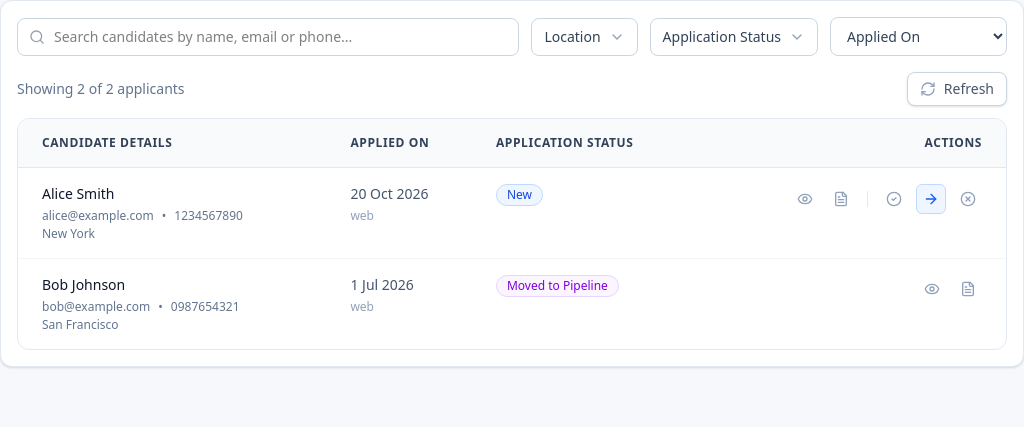
Test: JobApplicantsTab Filtering › filters by multi-select location
The image size is (1024, 427).
// Open Location dropdown
Click the button "Location".
click(584, 36)  # box 531,18 -> 638,56
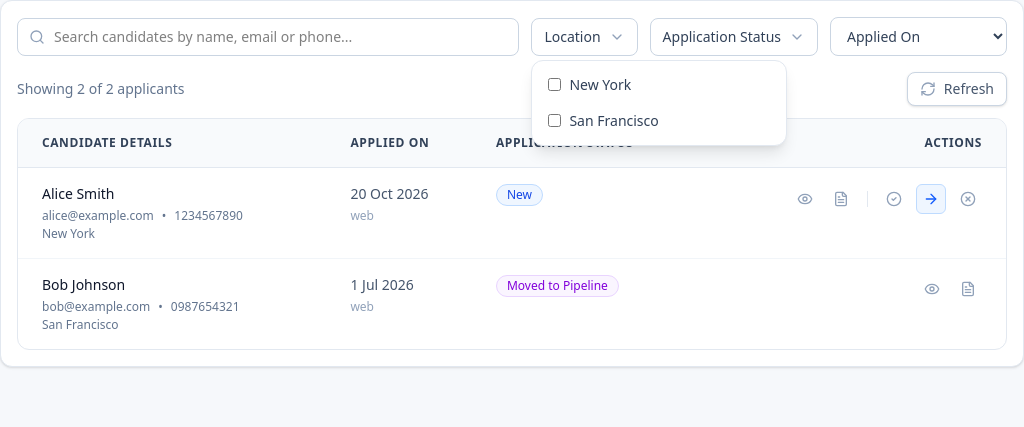
// Select New York
Click the checkbox labelled "New York".
click(555, 84)  # box 548,78 -> 561,91
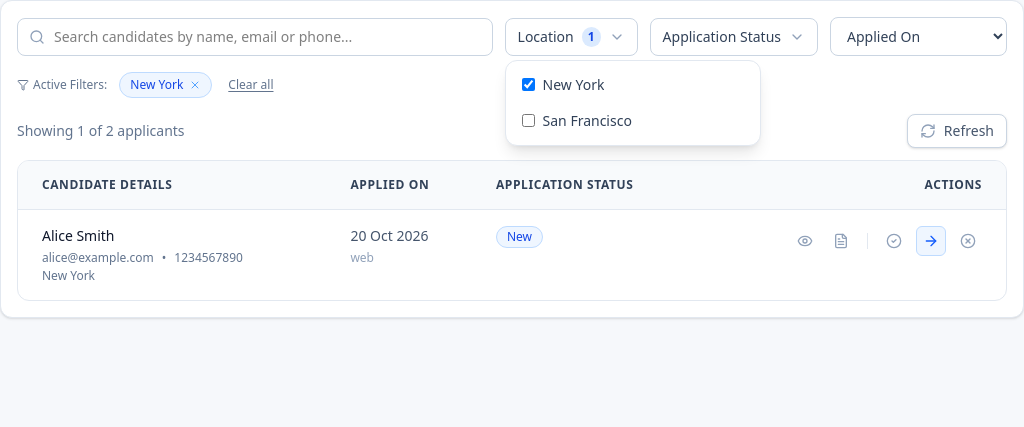
Expected: the text "Alice Smith" is shown, 42,226 -> 114,245
Result: the text "Bob Johnson" is gone
// Add San Francisco
Click the checkbox labelled "San Francisco".
click(528, 120)  # box 522,114 -> 534,127
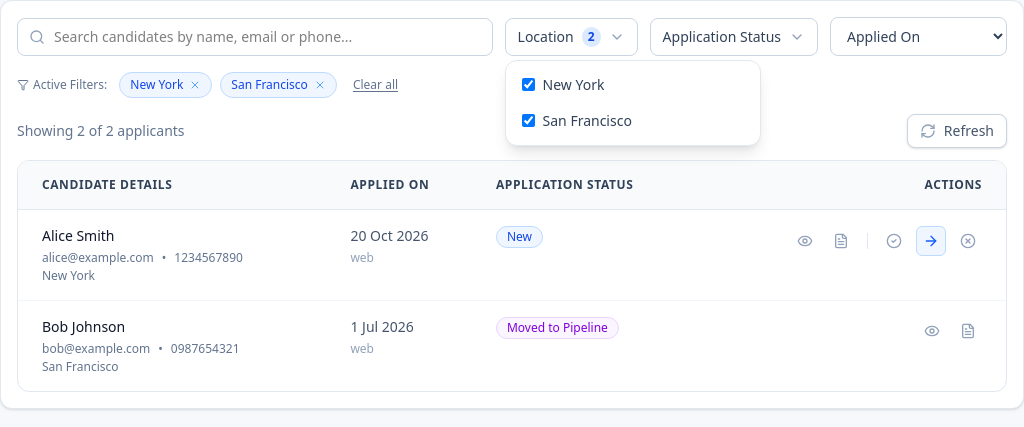
Expected: the text "Alice Smith" is shown, 42,226 -> 114,245
Result: the text "Bob Johnson" is shown at 42,317 -> 125,336
